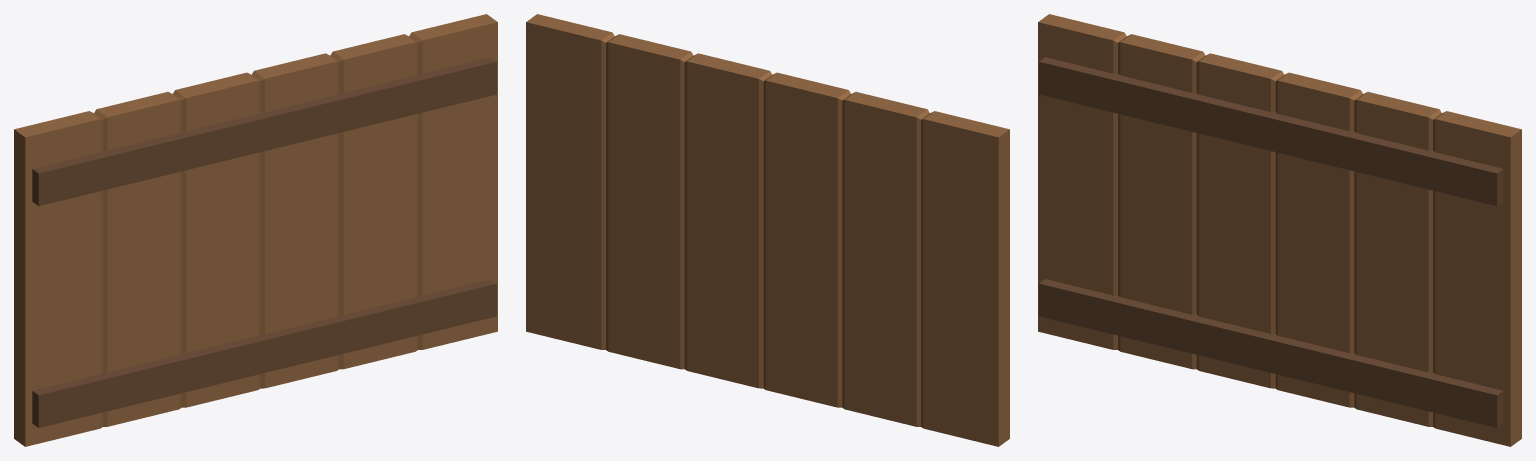
Rendered from Stable_door_mat.fbx.
3 renders of one model, left to right at view 1: azimuth 30°, elevation 25°; view 2: azimuth 150°, elevation 25°; view 3: azimuth 330°, elevation 25°, orthographic.
Parts seen in each view (by area): view 1: Stable_door_mat; view 2: Stable_door_mat; view 3: Stable_door_mat.
Boxes of the visible parts, <box> form: Stable_door_mat: <box>14,14,497,446</box>; Stable_door_mat: <box>526,14,1009,446</box>; Stable_door_mat: <box>1038,14,1521,446</box>.
Size of the model in its own units: 101 by 63.06 by 6.43.
